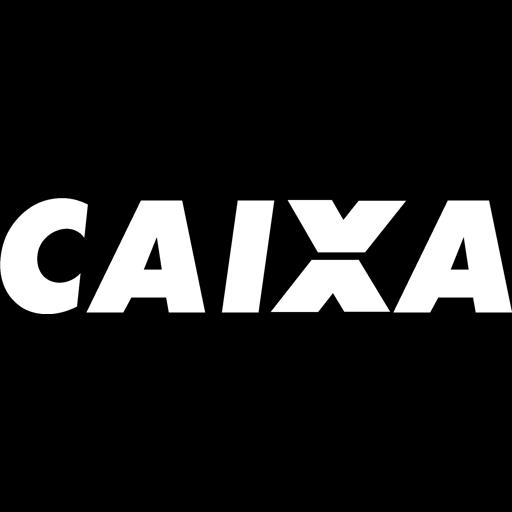Caixa Economica Federal: (0, 198, 512, 314)
